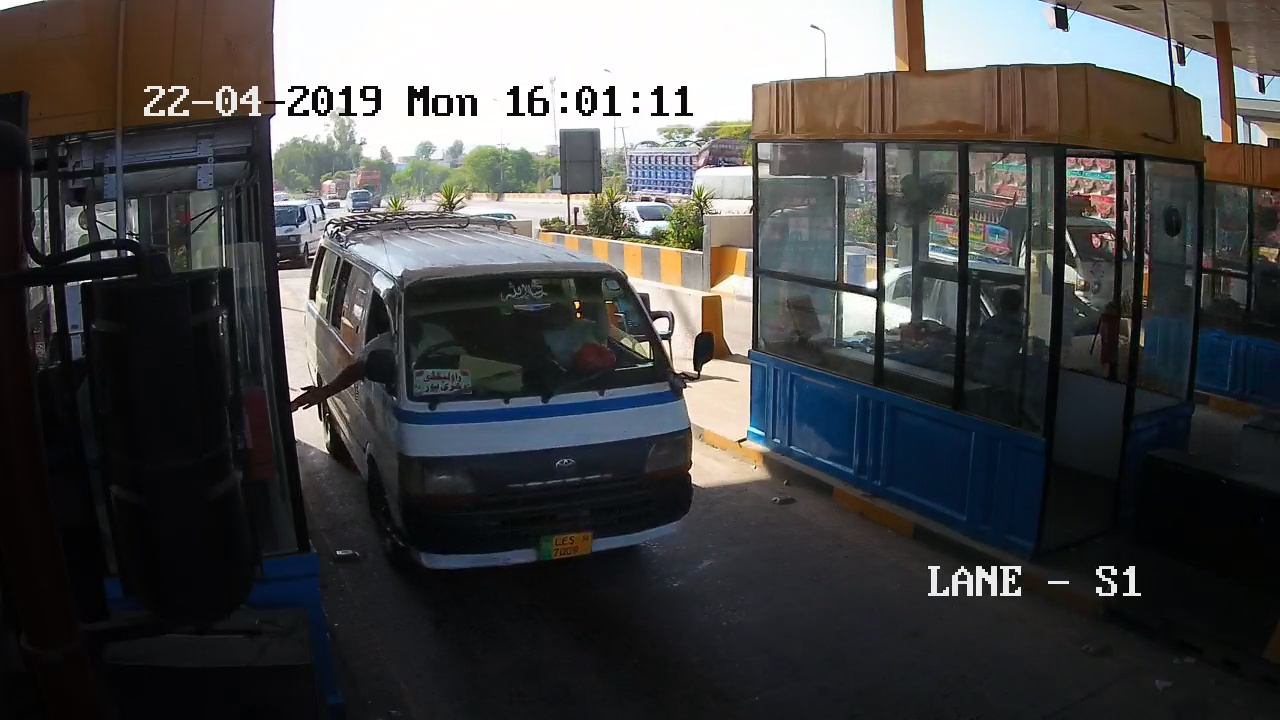car: (293, 217, 740, 613)
